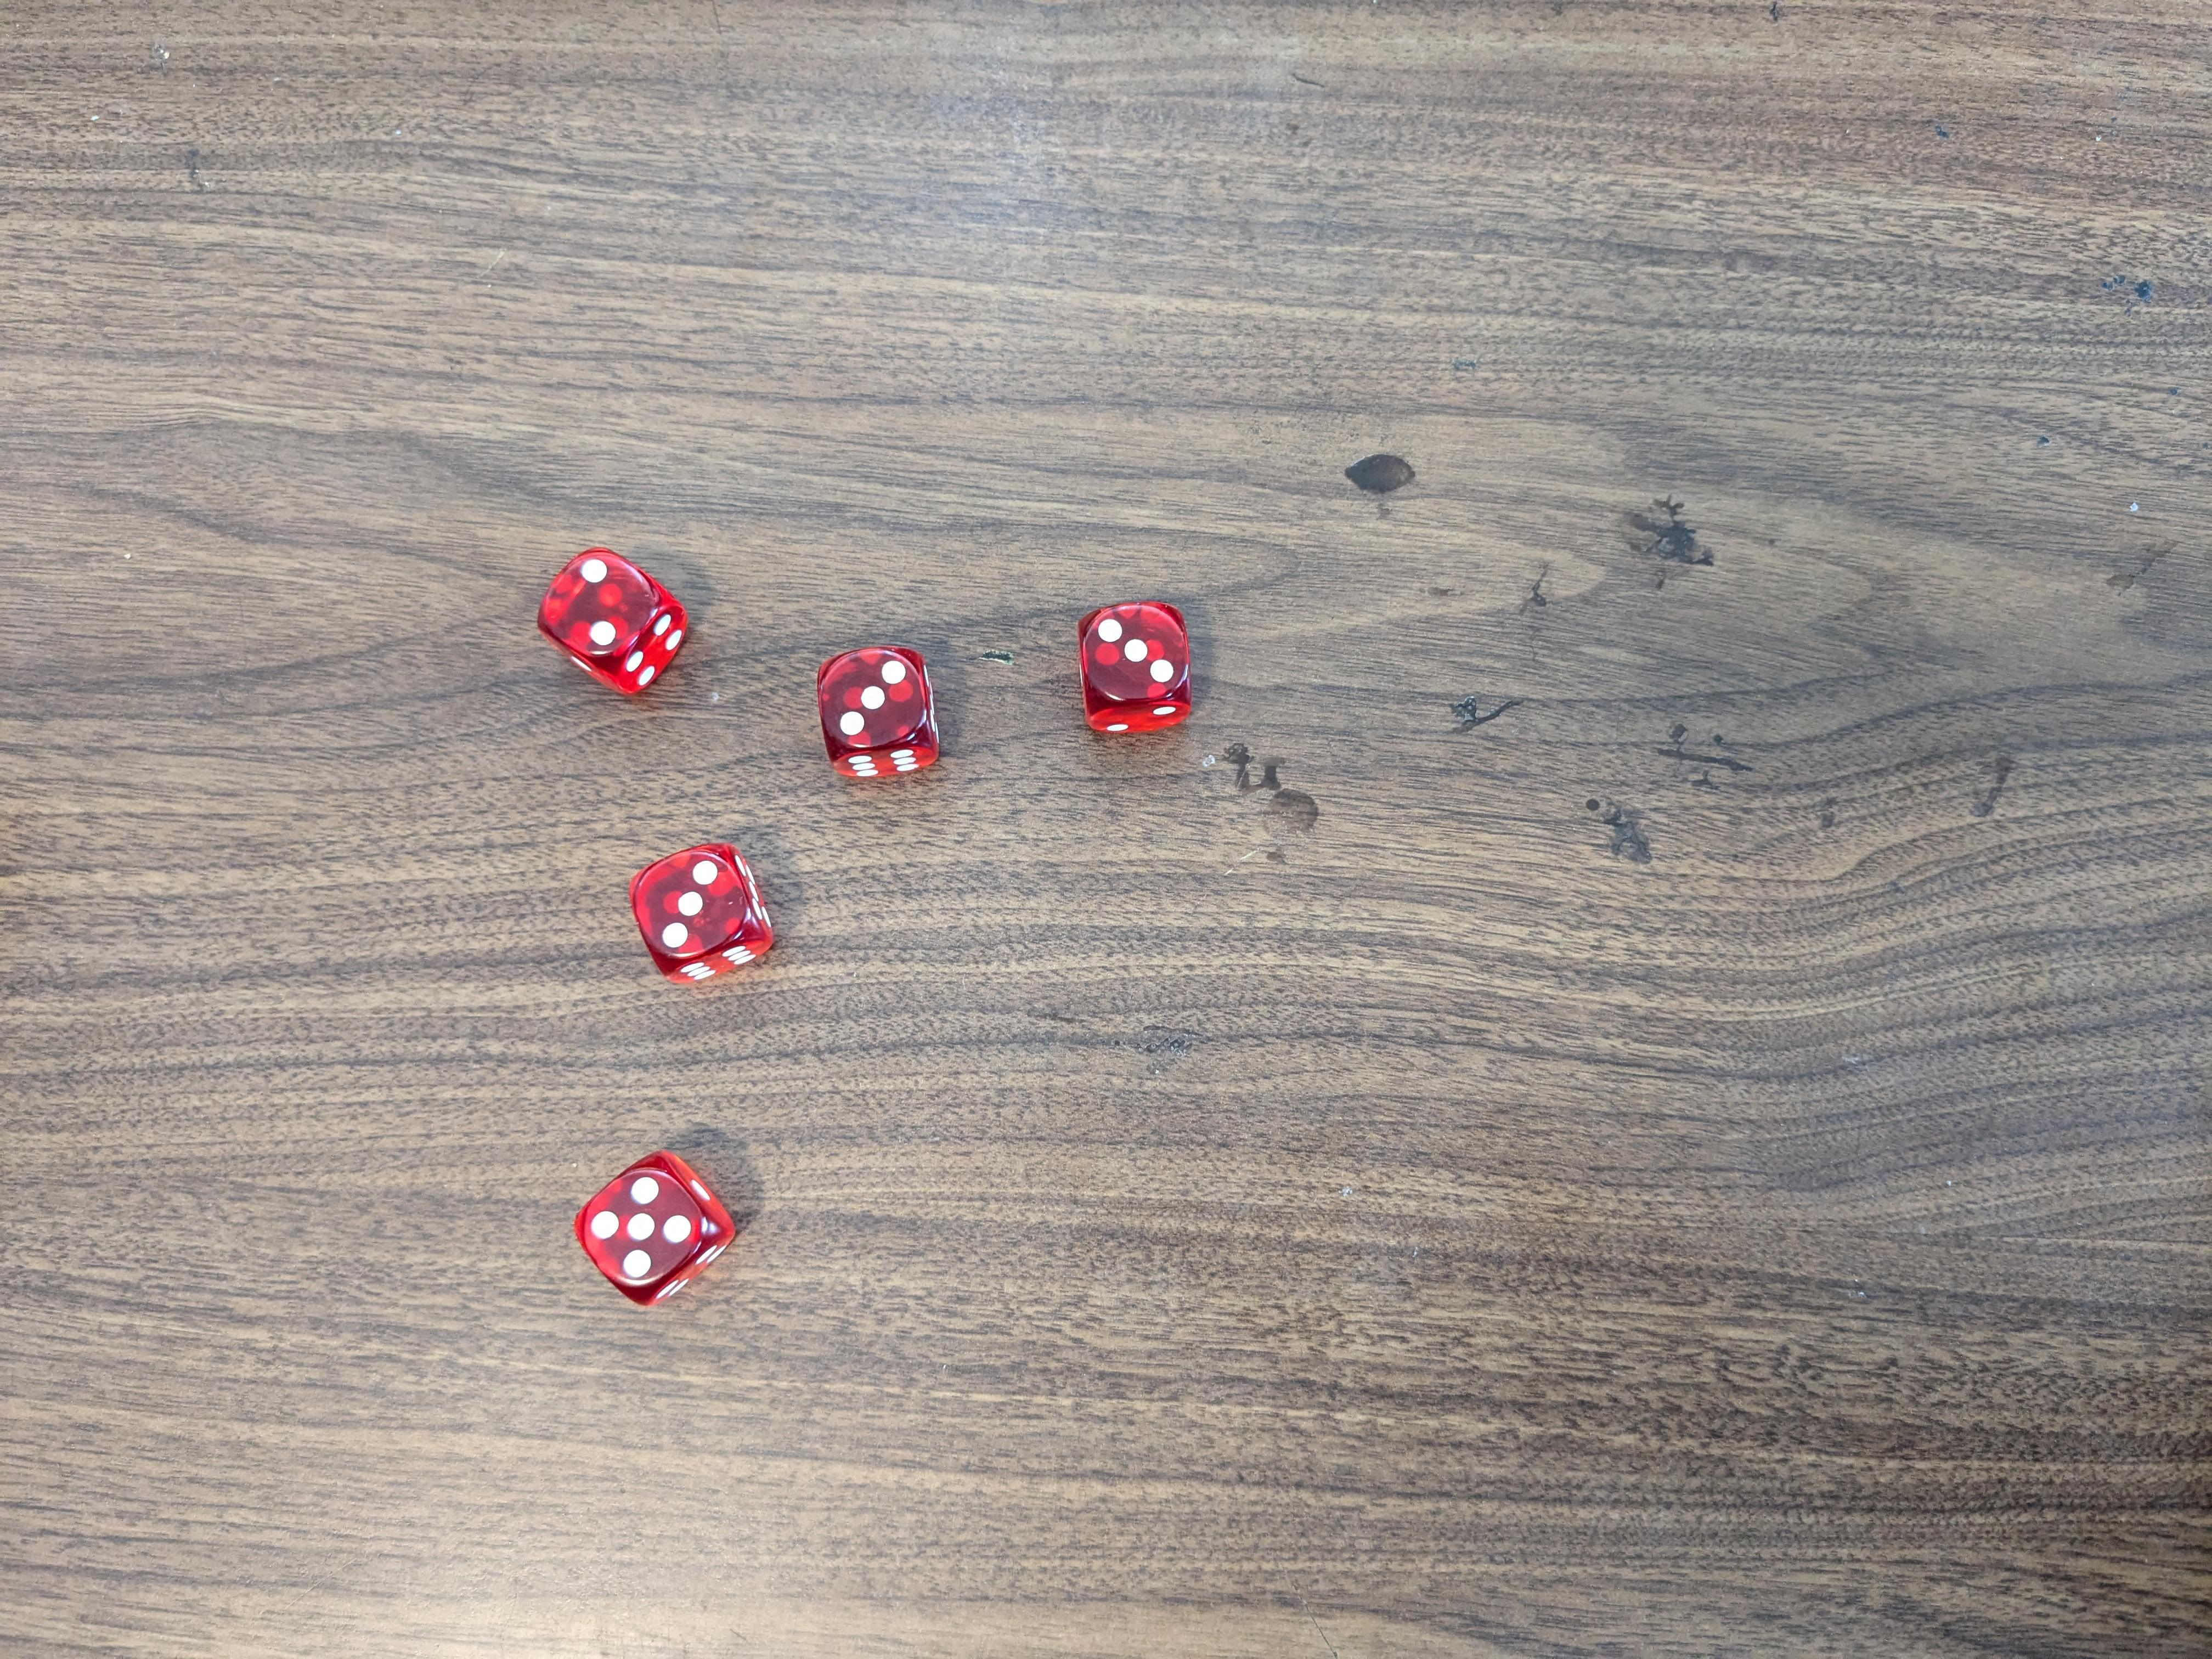five: (571, 1150, 738, 1305)
three: (625, 842, 780, 986), (808, 643, 944, 786), (1073, 594, 1191, 735)
two: (531, 545, 693, 706)
